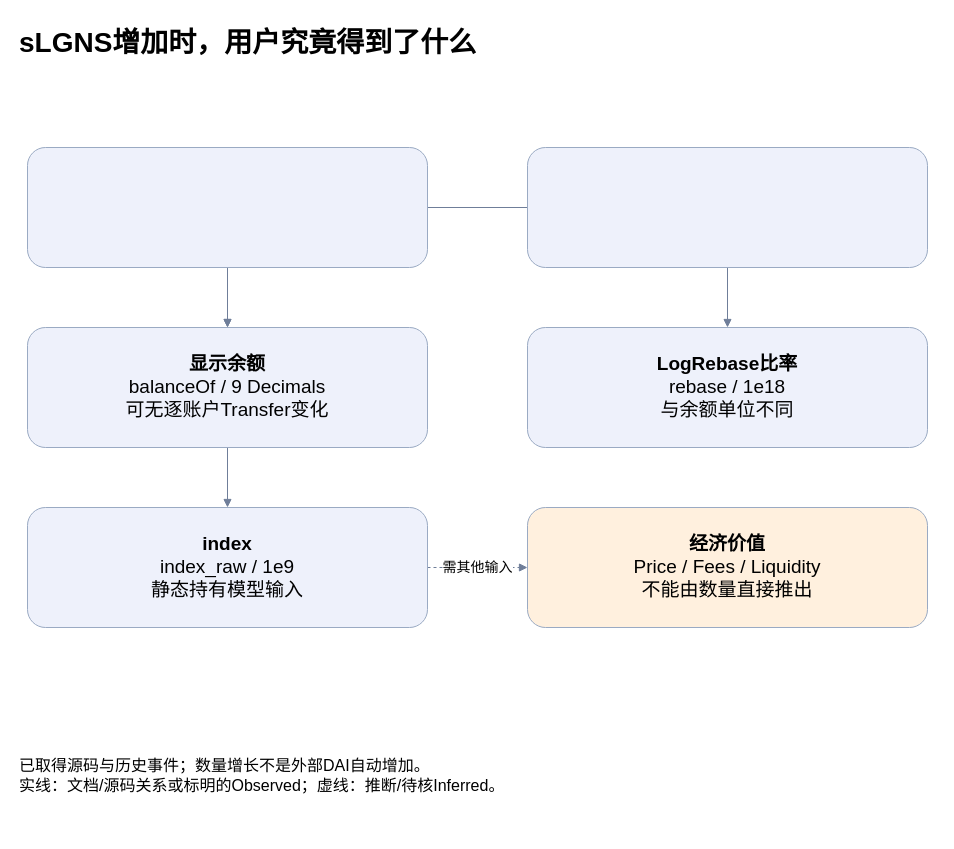
Some shapes in this 954 by 849 pixel diagram are drawn without their labels. The box of each missing label's shape, as (x1, y1, x2, y2) in pixels:
Rebase输入 Profit / Prior Supply 改变总量与gons换算: (526, 146, 928, 268)
内部gons Internal Units 账户份额: (26, 146, 428, 268)
